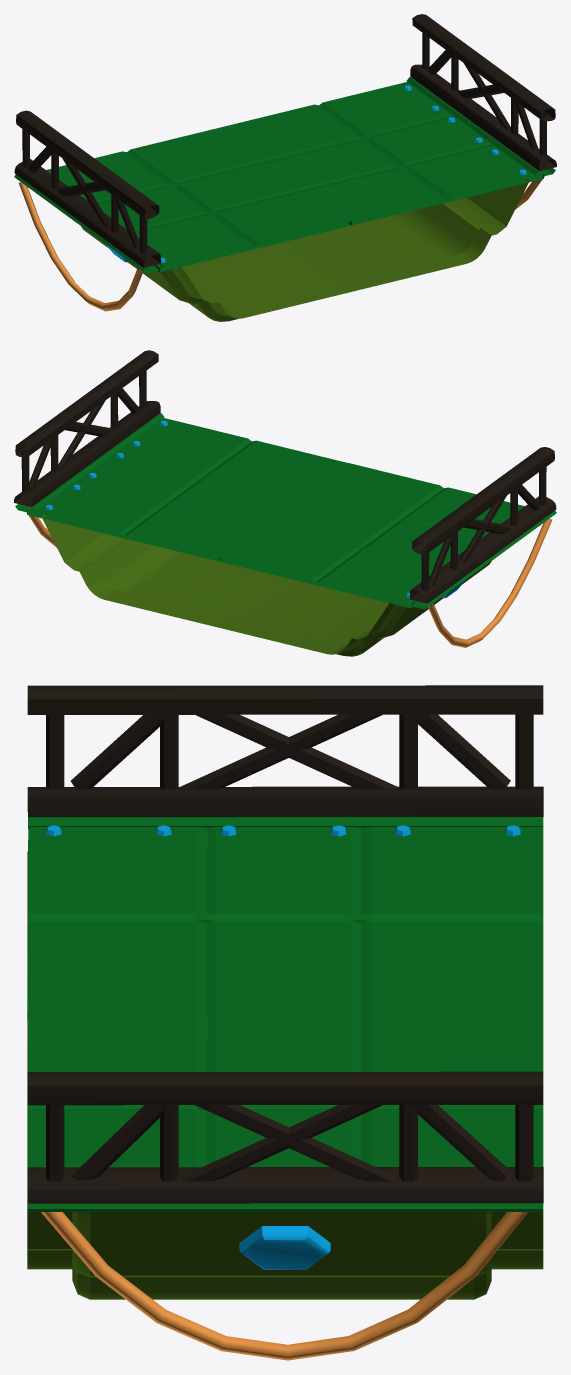
Rendered from Tile_Sol.fbx.
3 views of the same model, one above another, from view 1: azimuth 30°, elevation 25°; view 2: azimuth 150°, elevation 25°; view 3: azimuth 270°, elevation 25° (orthographic). The views are drawn at different scales.
Parts seen in each view (by area): view 1: BezierCurve.003, Cube.129, Cube.172, BezierCurve.004; view 2: BezierCurve.003, Cube.129, Cube.172, BezierCurve.004; view 3: BezierCurve.003, Cube.172, Cube.129, BezierCurve.004, Cylinder.017, Cylinder.016.
Boxes of the visible parts, x1,y1,x2,y2 form: BezierCurve.003: (14,77,555,273); Cube.129: (81,178,529,321); Cube.172: (14,14,556,267); BezierCurve.004: (18,169,547,311); BezierCurve.003: (15,413,556,609); Cube.129: (41,515,491,656); Cube.172: (14,350,556,603); BezierCurve.004: (24,505,552,647); BezierCurve.003: (27,817,543,1211); Cube.172: (27,685,543,1203); Cube.129: (27,851,543,1299); BezierCurve.004: (41,1212,528,1360); Cylinder.017: (239,1226,330,1269); Cylinder.016: (46,825,520,836).
Size of the model in its own units: 563 by 193 by 303.
